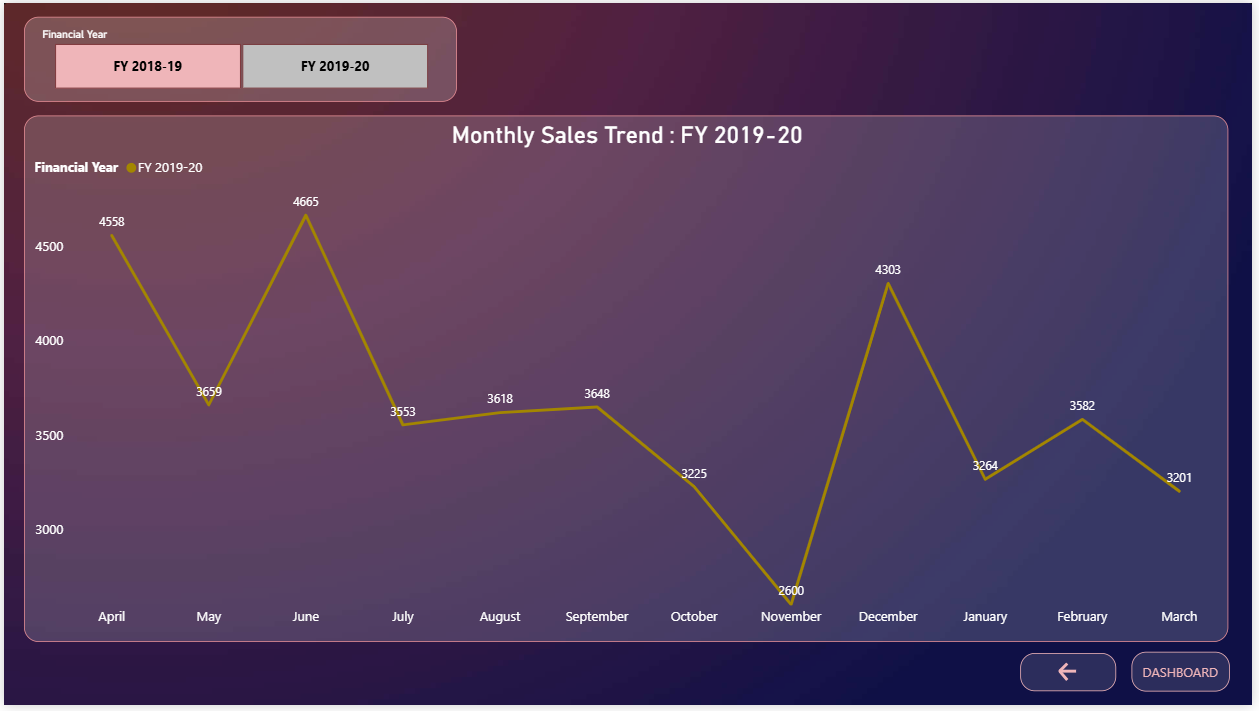

The dashboard page shown, as its layout file describes it:
{"tool":"powerbi","page":{"name":"Dashboard 11","canvas":[1280,720],"ordinal":10},"visuals":[{"type":"actionButton","box":[1155.8,665,100.6,40.5],"z":0},{"type":"actionButton","box":[1041.7,666.3,98.2,39.3],"z":1000},{"type":"lineChart","fields":{"Category":["Orders.Month Name for FY"],"Y":["Details.Total Sales"],"Series":["Orders.Financial Year"]},"box":[20.9,115.3,1235.6,539.9],"z":2000},{"type":"slicer","fields":{"Values":["Orders.Financial Year"]},"box":[20.9,13.5,444.2,87.1],"z":3000}]}

Visuals, with their boxes in screenshot pixels (x1, y1, x2, y2), scaled from the page's 1280x720 canvas onto the 1259x711 screenshot:
actionButton: (x1=1137, y1=657, x2=1236, y2=697)
actionButton: (x1=1025, y1=658, x2=1121, y2=697)
lineChart - Orders.Month Name for FY x Details.Total Sales: (x1=21, y1=114, x2=1236, y2=647)
slicer - Orders.Financial Year: (x1=21, y1=13, x2=457, y2=99)
